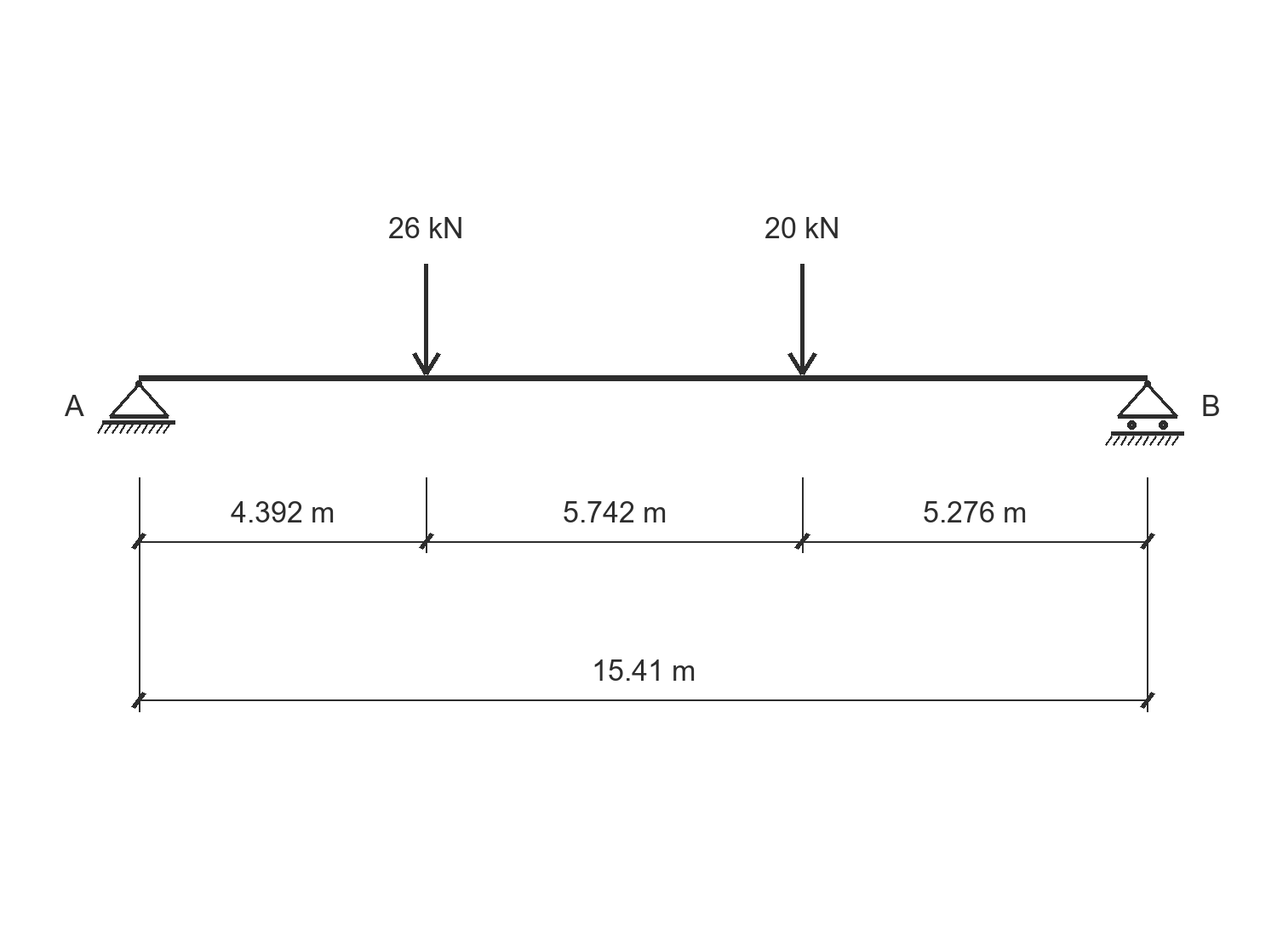pin_support: (97, 380, 175, 434)
point_load: (787, 264, 817, 375), (412, 264, 441, 375)
roller_support: (1105, 380, 1184, 446)
